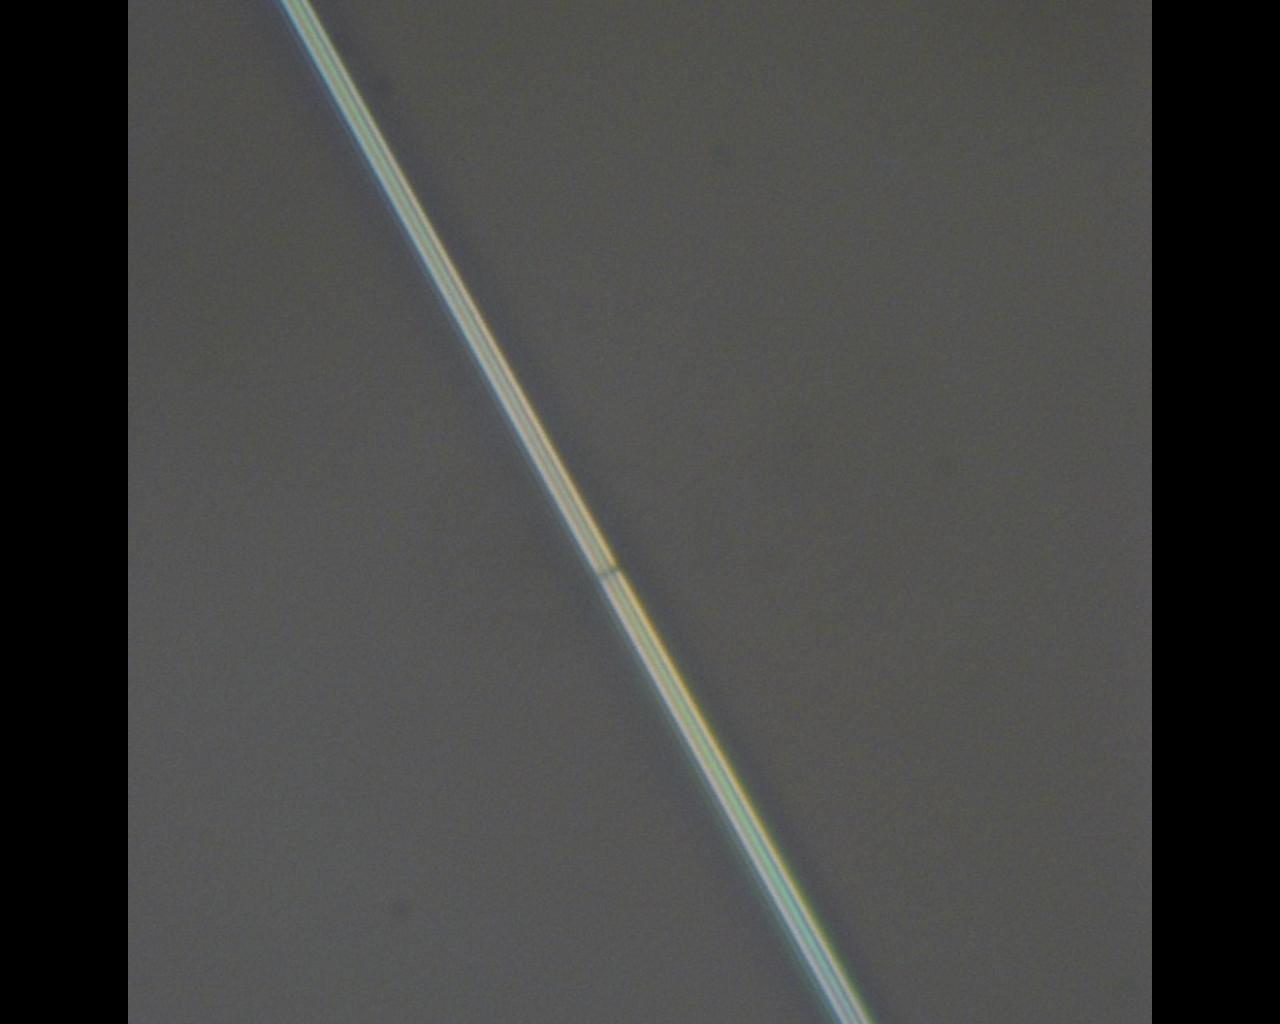fiber: (143, 337, 628, 1024), (26, 151, 844, 239), (844, 681, 1280, 833)
